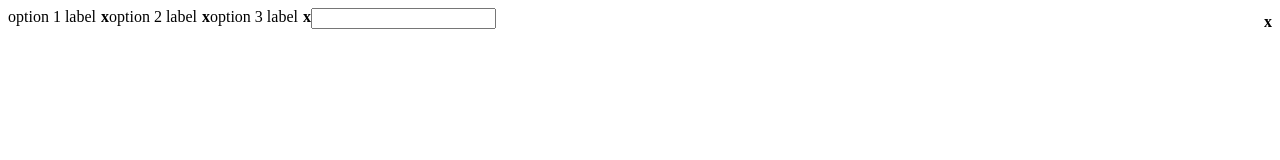
MultiSelect › when rendering the selected list › should render a list of 0 selected options
Expected: the number of list items is 3, top-left (8, 8), bottom-right (109, 31); top-left (109, 8), bottom-right (210, 31); top-left (210, 8), bottom-right (311, 31)
What coordinates should you click on to do the following:
click the 4th button "x"
I would click on:
 (1268, 22)
Its box is top-left (1264, 13), bottom-right (1272, 30).
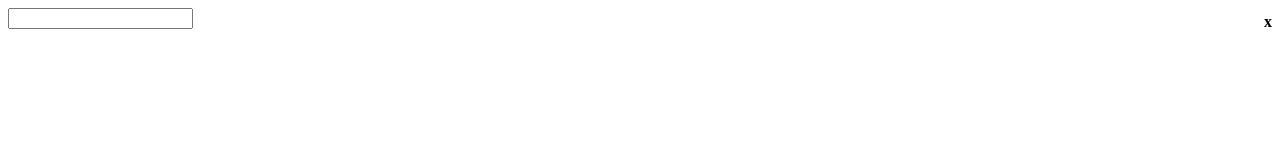
Result: no list items are shown
